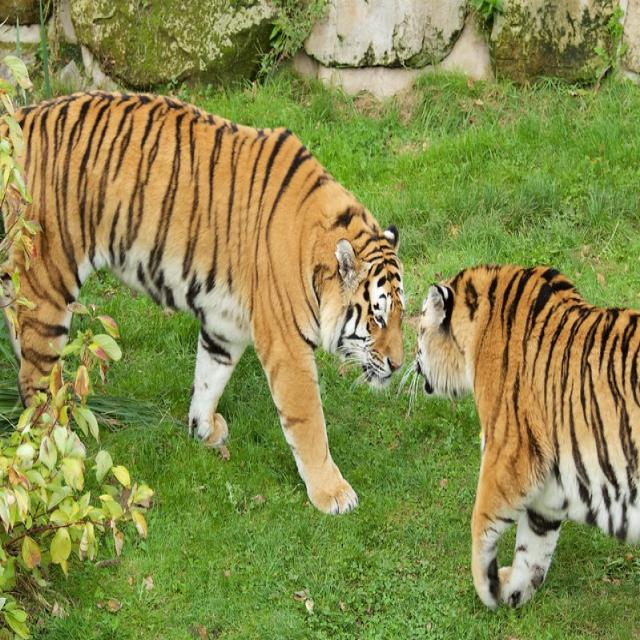Tiger: (0, 86, 405, 518), (410, 254, 640, 614)
